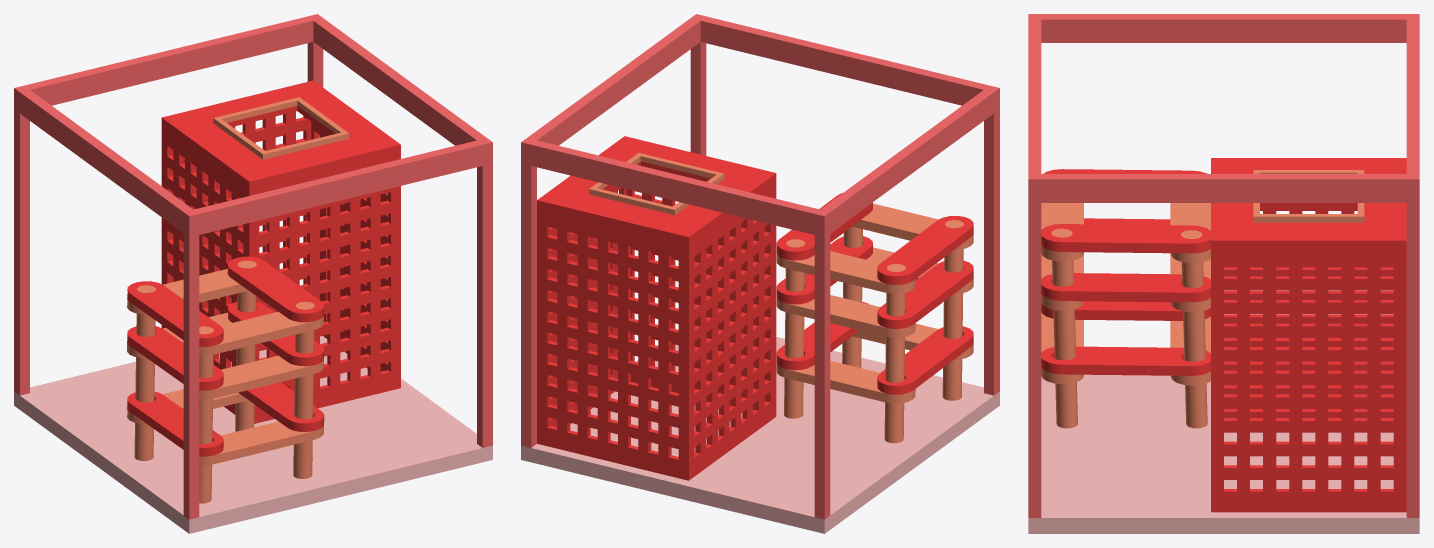
The picture shows the model from 3 angles, left to right: view 1: azimuth 30°, elevation 25°; view 2: azimuth 150°, elevation 25°; view 3: azimuth 270°, elevation 25°; orthographic projection. The views are drawn at different scales.
Parts seen in each view (by area): view 1: 物件_31, 物件_22, 物件_18, 物件_20, 物件_24, 物件_25, 物件_26, 物件_23, 物件_28, 物件_30, 物件_27, 物件_21 (+18 smaller); view 2: 物件_19, 物件_31, 物件_20, 物件_25, 物件_18, 物件_24, 物件_26, 物件_23, 物件_27, 物件_29, 物件_28, 物件_9 (+18 smaller); view 3: 物件_21, 物件_31, 物件_23, 物件_26, 物件_18, 物件_20, 物件_11, 物件_29, 物件_30, 物件_2, 物件_6, 物件_14 (+15 smaller).
Boxes of the visible parts, box(x1,y1,x2,y2) form: 物件_31: box(14, 336, 492, 533); 物件_22: box(246, 150, 400, 423); 物件_18: box(161, 80, 400, 186); 物件_20: box(161, 123, 254, 414); 物件_24: box(183, 138, 492, 236); 物件_25: box(14, 15, 322, 111); 物件_26: box(14, 88, 198, 236); 物件_23: box(308, 14, 492, 164); 物件_28: box(183, 209, 199, 519); 物件_30: box(477, 138, 492, 447); 物件_27: box(14, 89, 29, 395); 物件_21: box(311, 121, 400, 389); 物件_19: box(537, 205, 691, 480); 物件_31: box(521, 337, 999, 533); 物件_20: box(683, 179, 776, 480); 物件_25: box(521, 138, 830, 237); 物件_18: box(537, 136, 776, 242); 物件_24: box(692, 14, 999, 113); 物件_26: box(815, 89, 995, 236); 物件_23: box(521, 14, 705, 164); 物件_27: box(814, 209, 830, 519); 物件_29: box(521, 139, 536, 447); 物件_28: box(984, 88, 999, 395); 物件_9: box(877, 216, 973, 284); 物件_21: box(1211, 246, 1406, 512); 物件_31: box(1028, 374, 1419, 533); 物件_23: box(1028, 174, 1419, 202); 物件_26: box(1028, 14, 1419, 42); 物件_18: box(1211, 158, 1406, 246); 物件_20: box(1224, 203, 1393, 417); 物件_11: box(1041, 224, 1210, 253); 物件_29: box(1406, 174, 1419, 517); 物件_30: box(1028, 174, 1041, 517); 物件_2: box(1041, 273, 1210, 302); 物件_6: box(1041, 346, 1210, 375); 物件_14: box(1051, 228, 1077, 428).
Size of the model in its own units: 48 by 48 by 48.
